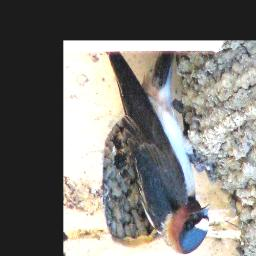Swallow: (101, 54, 210, 256)
